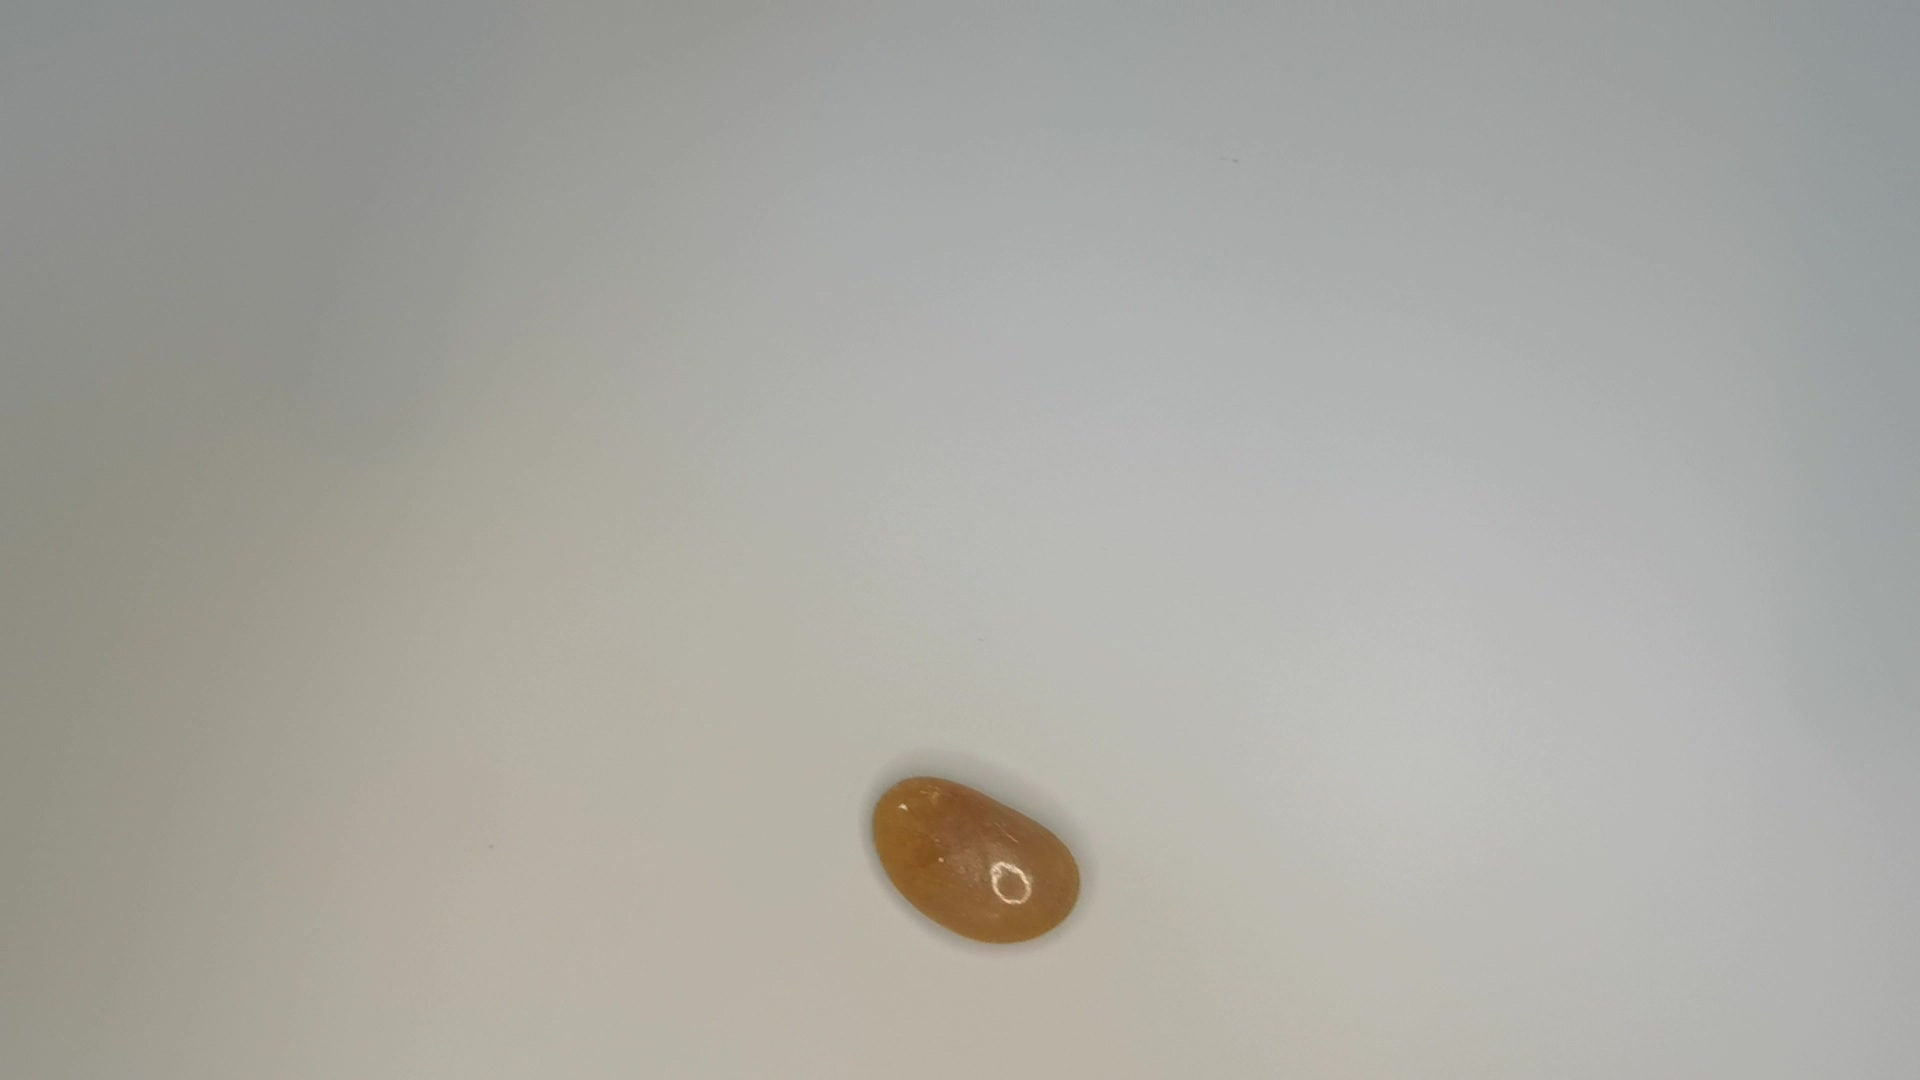ceramic: (864, 765, 1097, 953)
